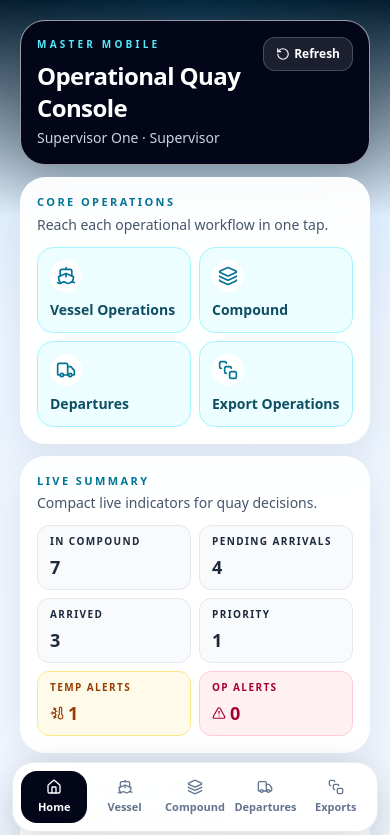
it: SupervisorMobileDashboard › keeps a cancelled vessel row visible and disables Arrived
Click the button "Vessel Operations" at [114, 290], box 37,246 -> 191,332
(page scrolled)
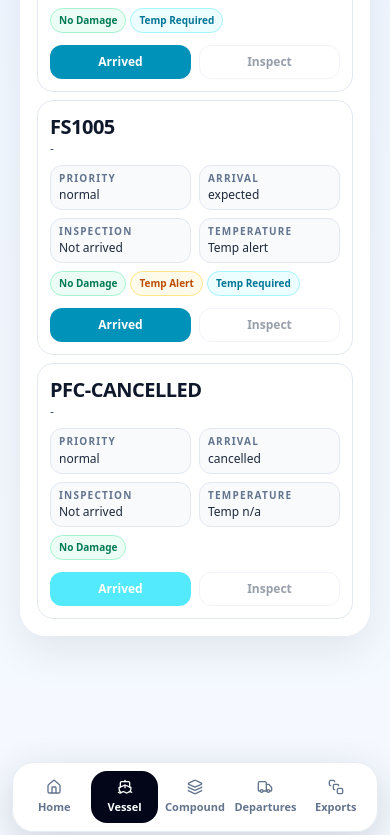
Result: the text "PFC-CANCELLED" is shown at 50,376 -> 202,403
Result: the text "cancelled" is shown at 208,450 -> 261,467
Result: the button "Arrived" below "PFC-CANCELLED" is disabled at 50,572 -> 191,606
